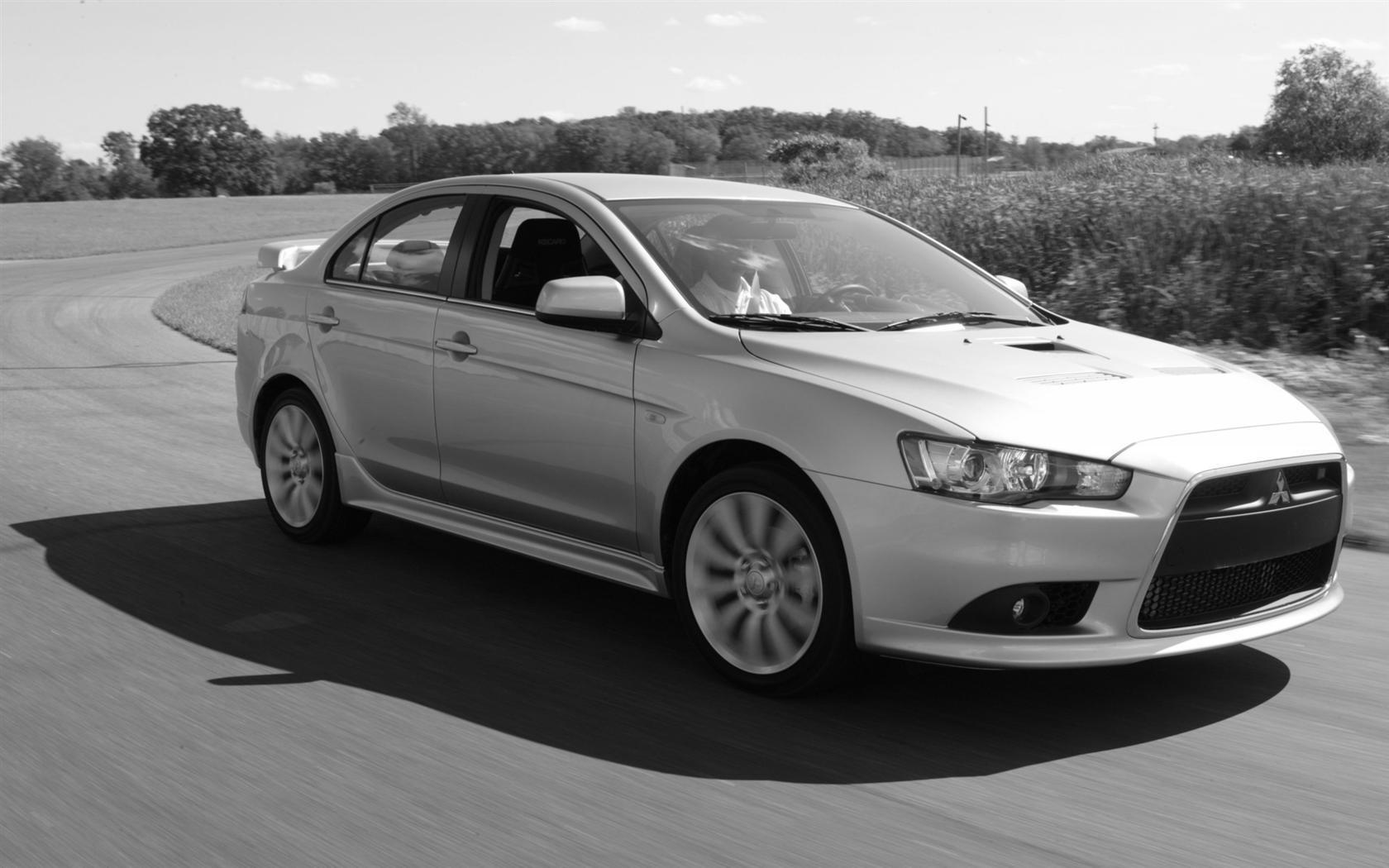car: (238, 164, 1360, 723)
